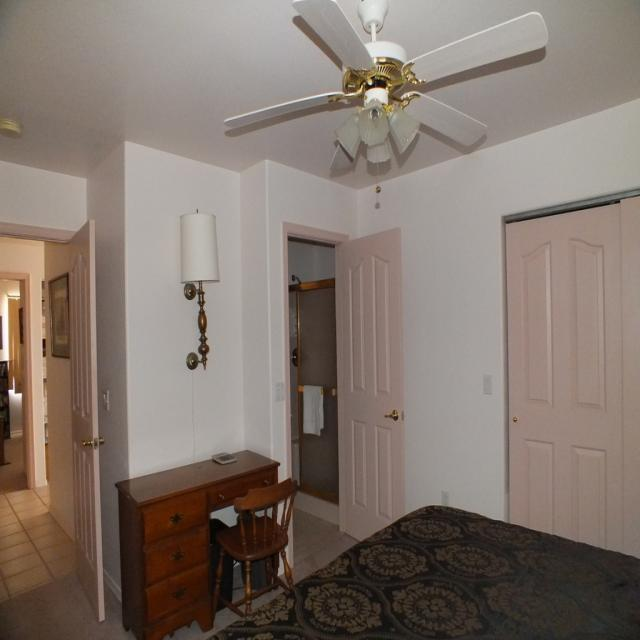fan_off: (216, 0, 554, 171)
